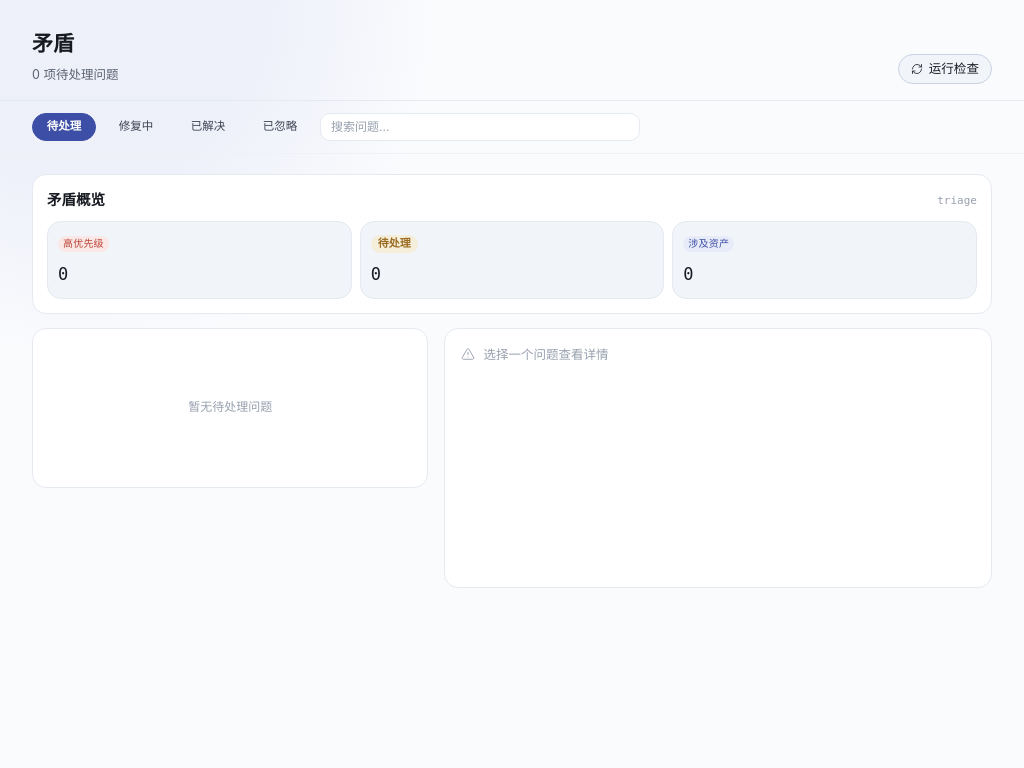
Test: ConsistencyIssuesPage › confirms when a remote consistency check completes without issues
Expected: the text "暂无待处理问题" is shown, [188,398,272,417]
Click the button "运行检查" at x=945, y=69, box [898,54,992,84]
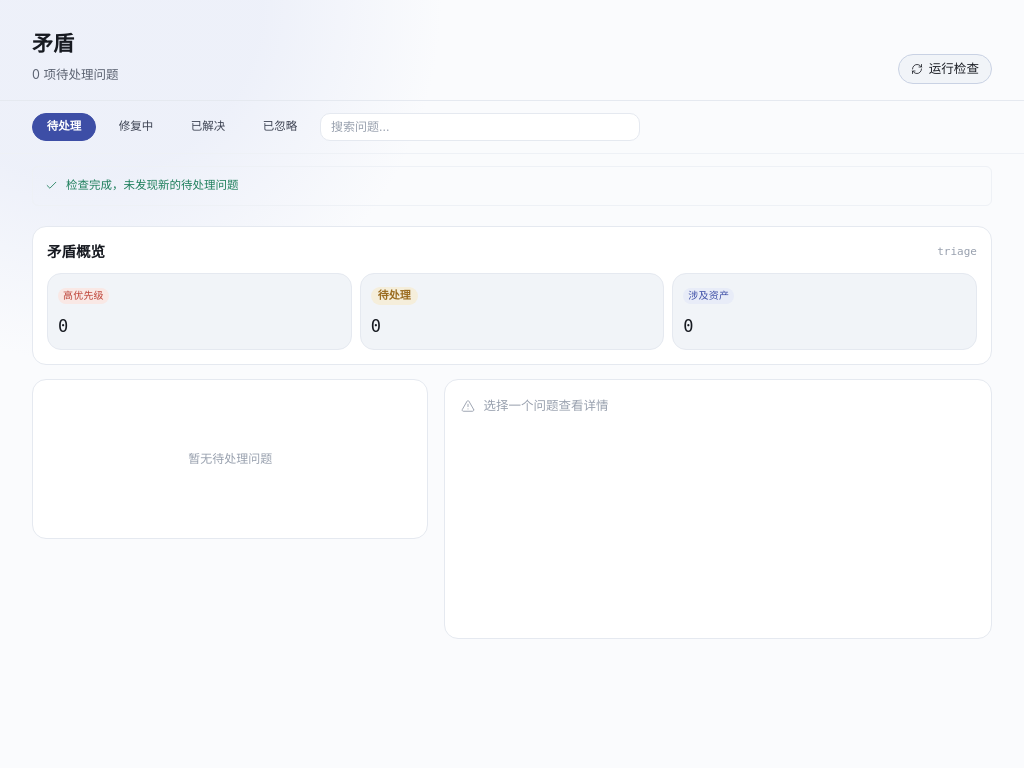
Expected: the message reads "检查完成，未发现新的待处理问题", [66,178,238,192]
